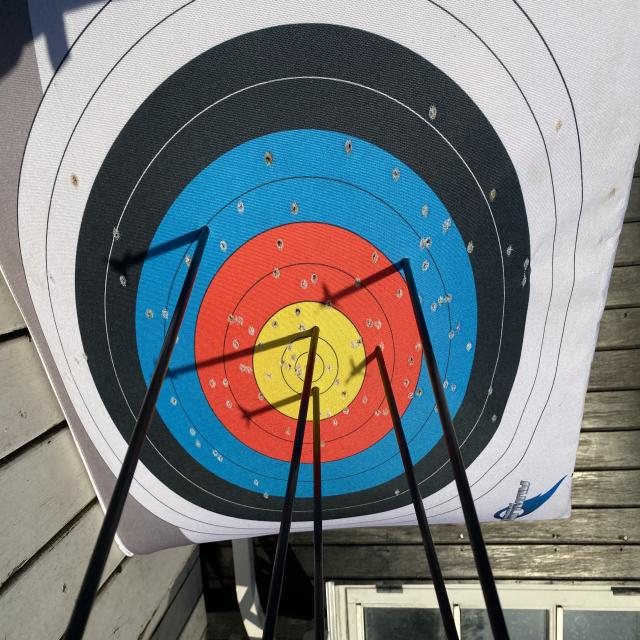Arrow_Blue: (391, 236, 422, 302), (188, 215, 223, 258)
Arrow_Red: (366, 334, 402, 380)
Arrow_Yellow: (294, 315, 331, 348), (308, 376, 325, 408)
